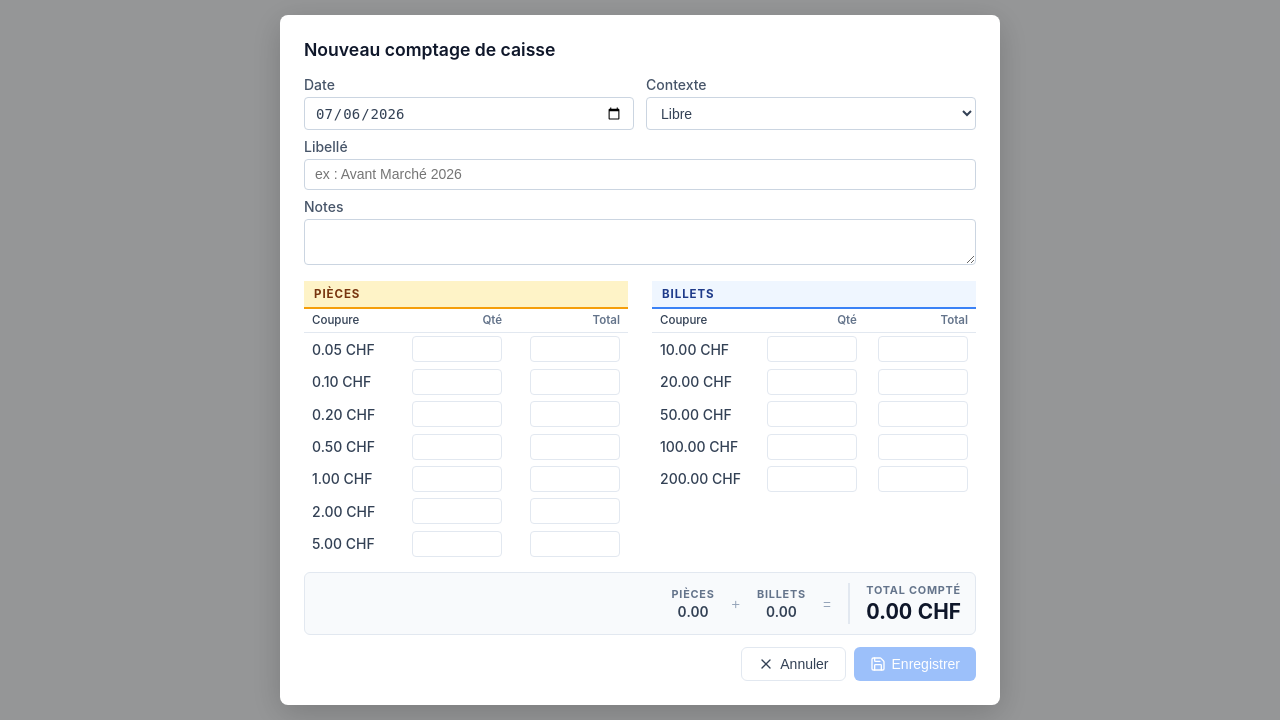
CashCountModal › saisir une quantité met à jour le total de la ligne
Type "38" into the number field with test id "qty-100" at (457, 479), box [412, 466, 502, 492]
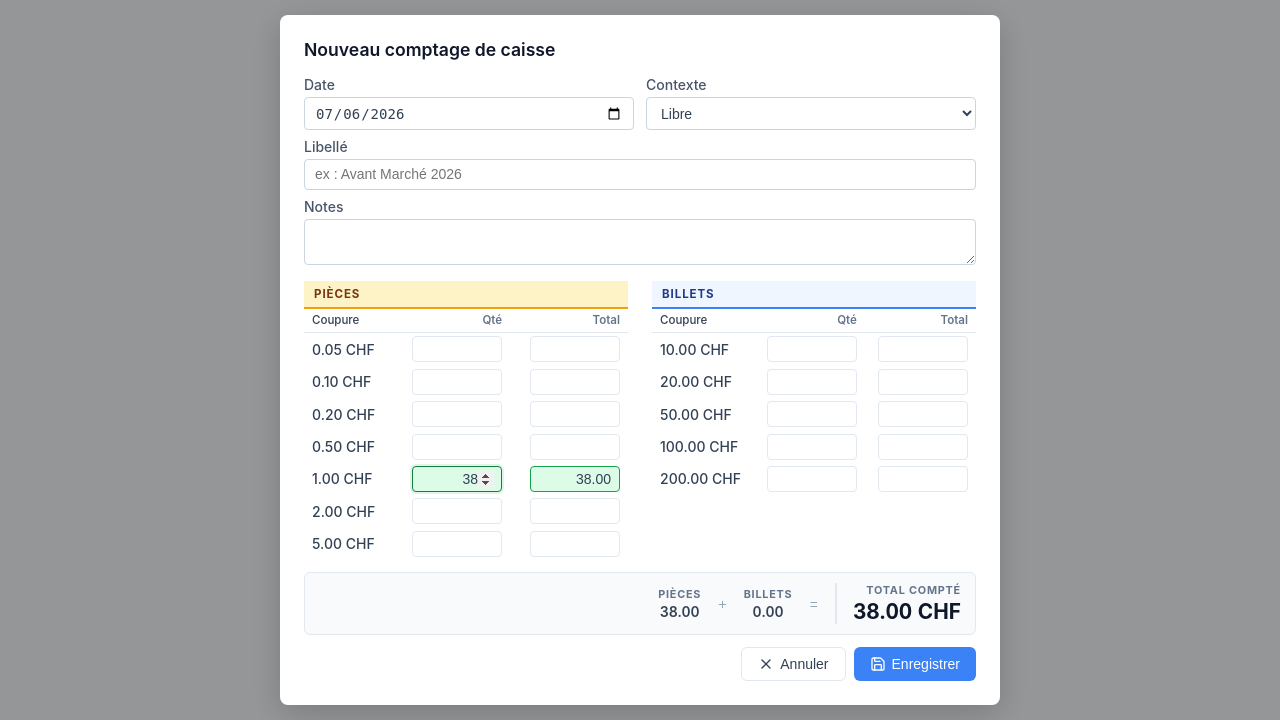
Result: the field with test id "total-100" holds "38.00" at [530, 466, 620, 492]
